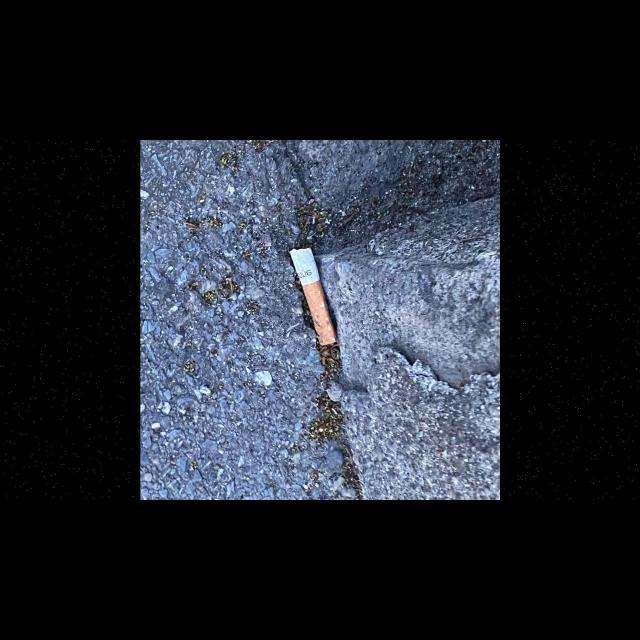cigarette: (288, 246, 338, 346)
